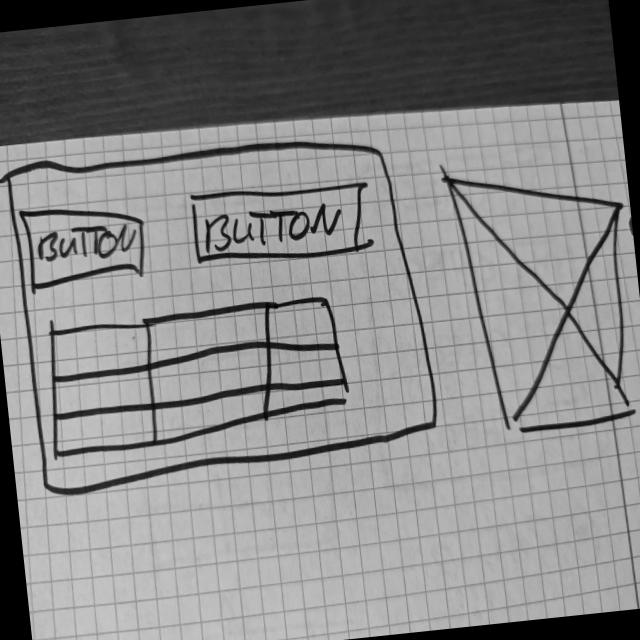button: (189, 176, 375, 274), (20, 197, 150, 295)
container: (3, 121, 445, 500)
image: (443, 158, 640, 444)
table: (40, 289, 358, 460)
